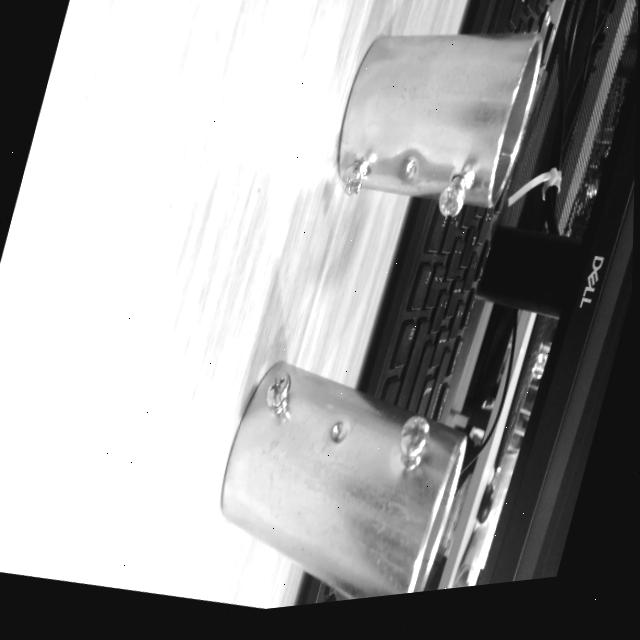Co_Lon: (194, 354, 480, 623)
Co_Nho: (329, 4, 544, 226)
